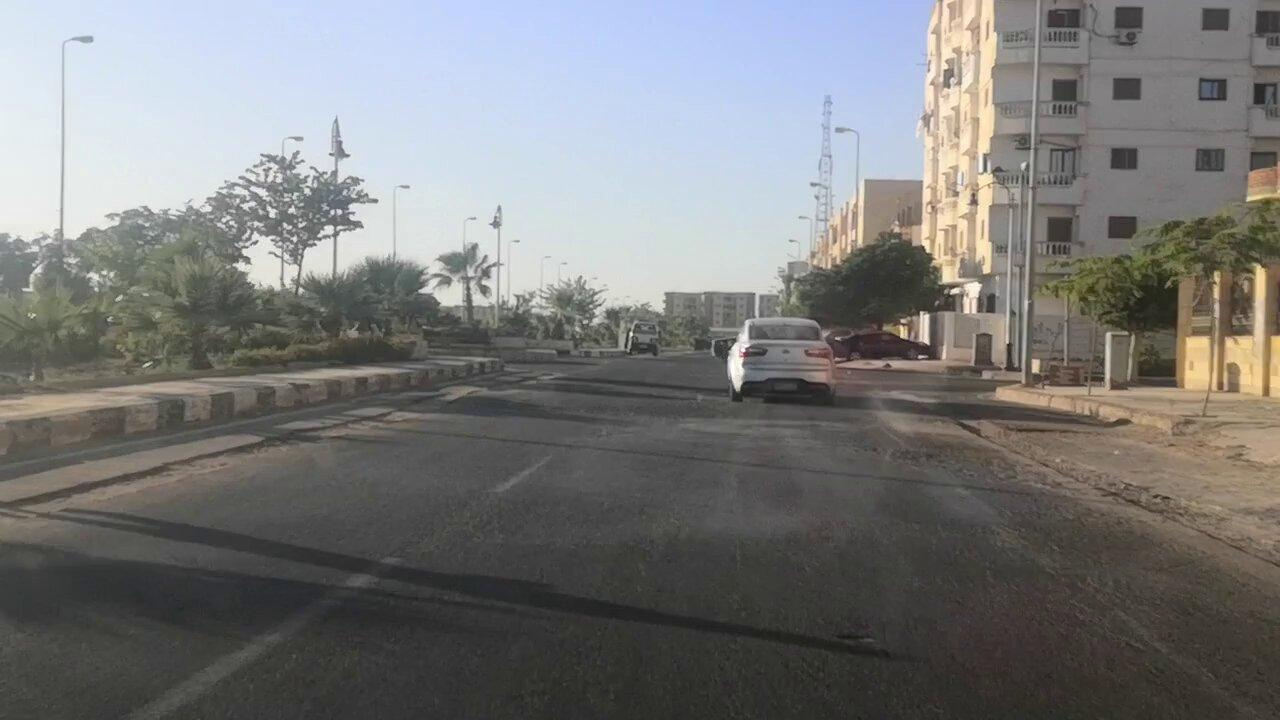Bump: (394, 376, 958, 418)
